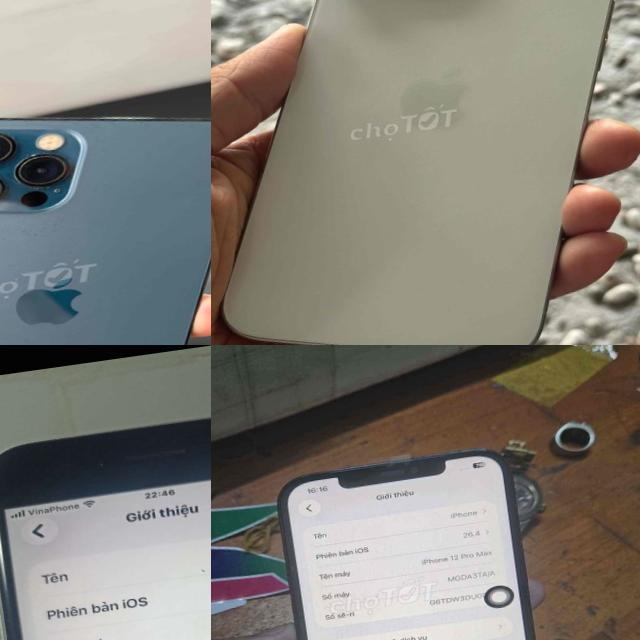gen_12_13: (267, 438, 572, 640), (0, 78, 211, 345)
gen_15: (211, 0, 640, 345)
gen_7_8: (0, 391, 211, 640)
scratch: (0, 474, 17, 592)
